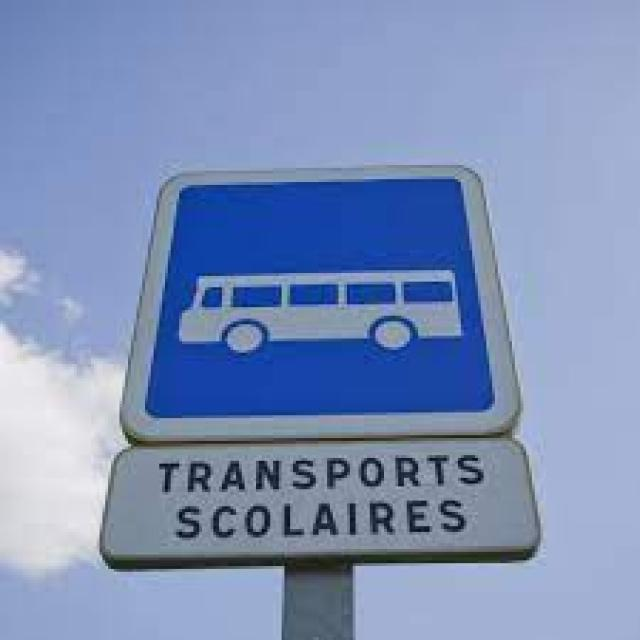ArretBus: (121, 163, 521, 442)
